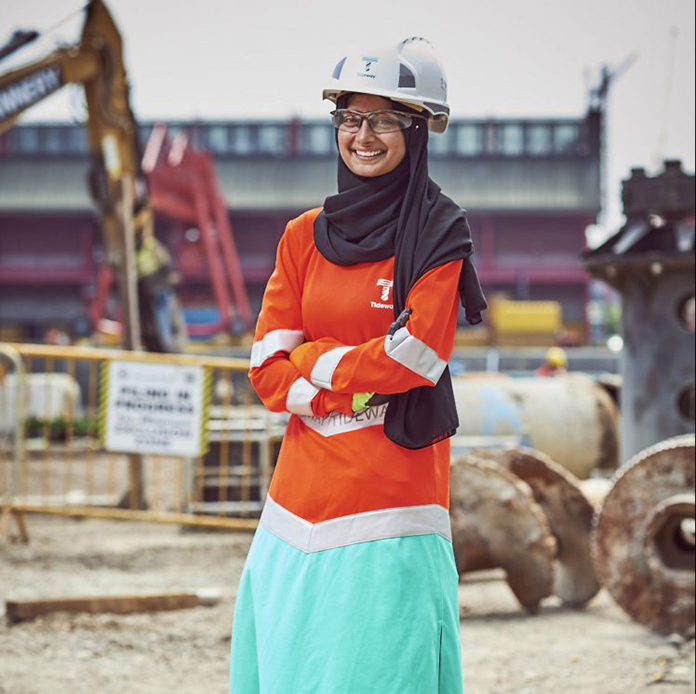Hard Hat: (323, 32, 460, 97)
High Viz: (283, 205, 443, 460)
